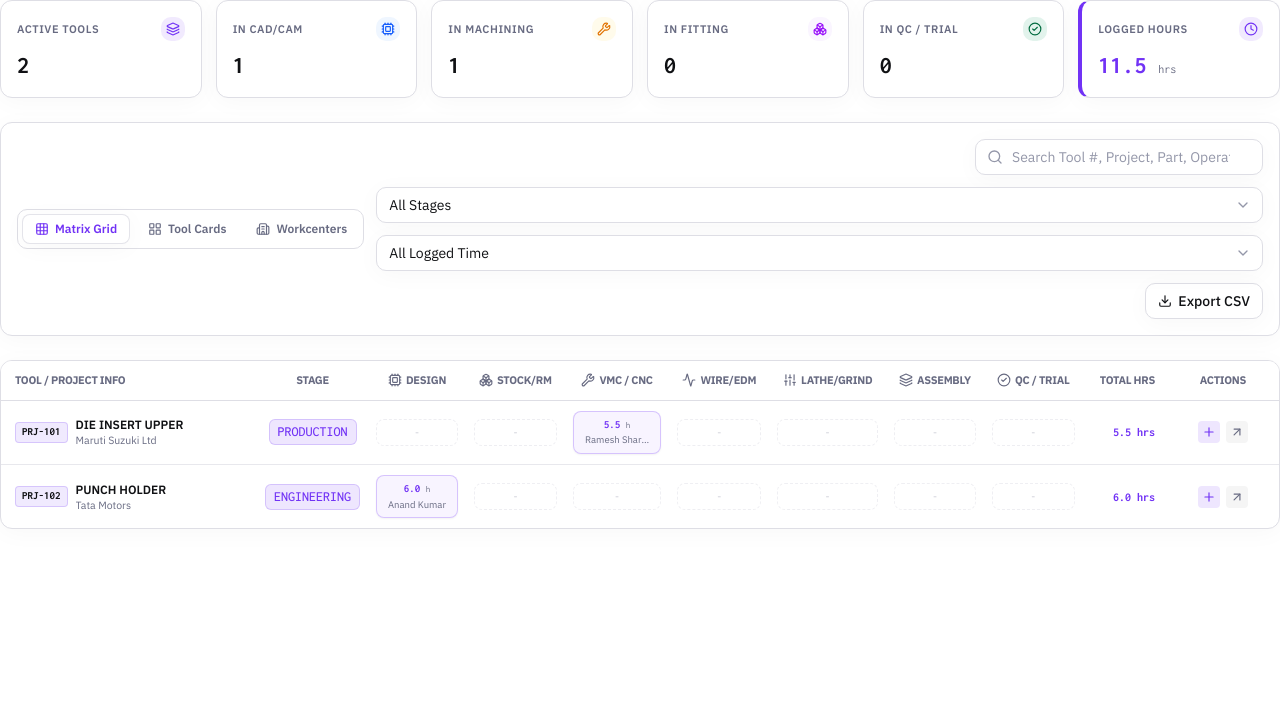
Test: ProjectToolMatrix Component › opens quick log modal and allows logging work
Click quick log button
What coordinates should you click on to do the following:
click the button titled "Quick Log Toolroom Work" in the row of "PRJ-101"
I would click on:
 (1209, 432)
Its box is [1198,421,1220,443].
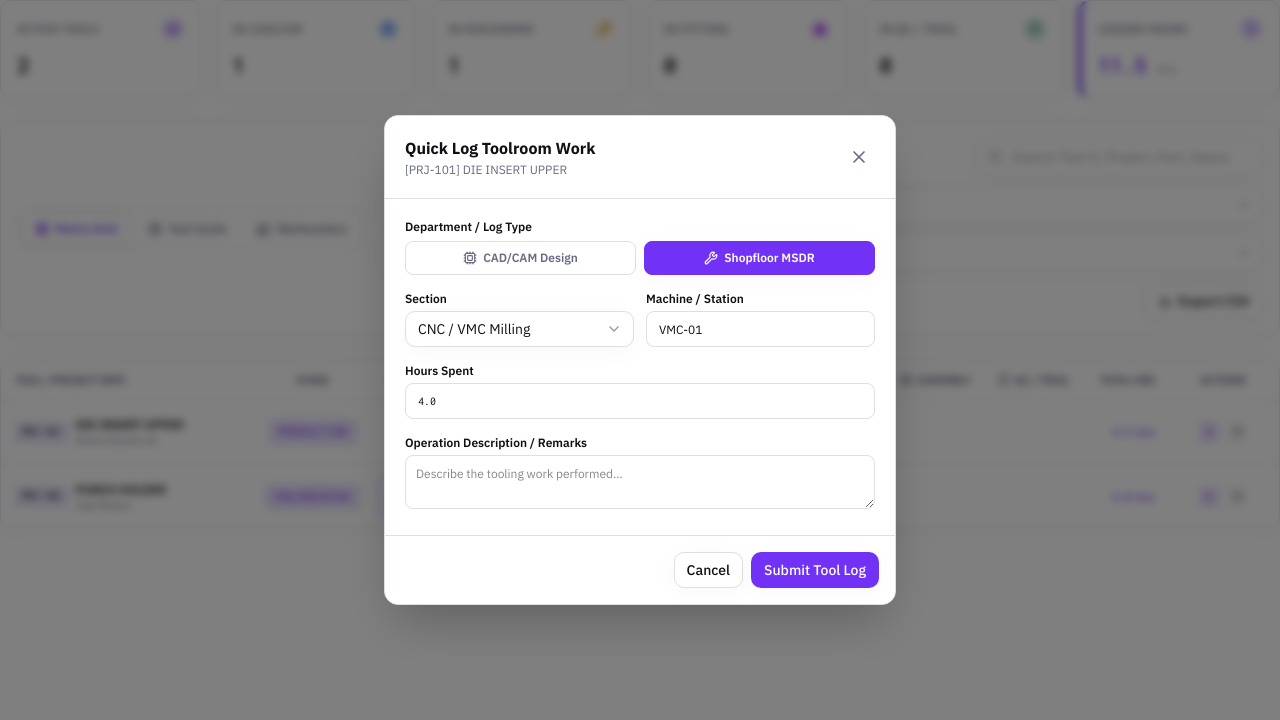
Expected: the heading "Quick Log Toolroom Work" is shown, [405,136,595,160]
Expected: the button "Shopfloor MSDR" is shown, [644,241,875,275]
Close modal
What coordinates should you click on to do the following:
click the button "Cancel"
I would click on:
 (708, 570)
Its box is [674,552,743,588].
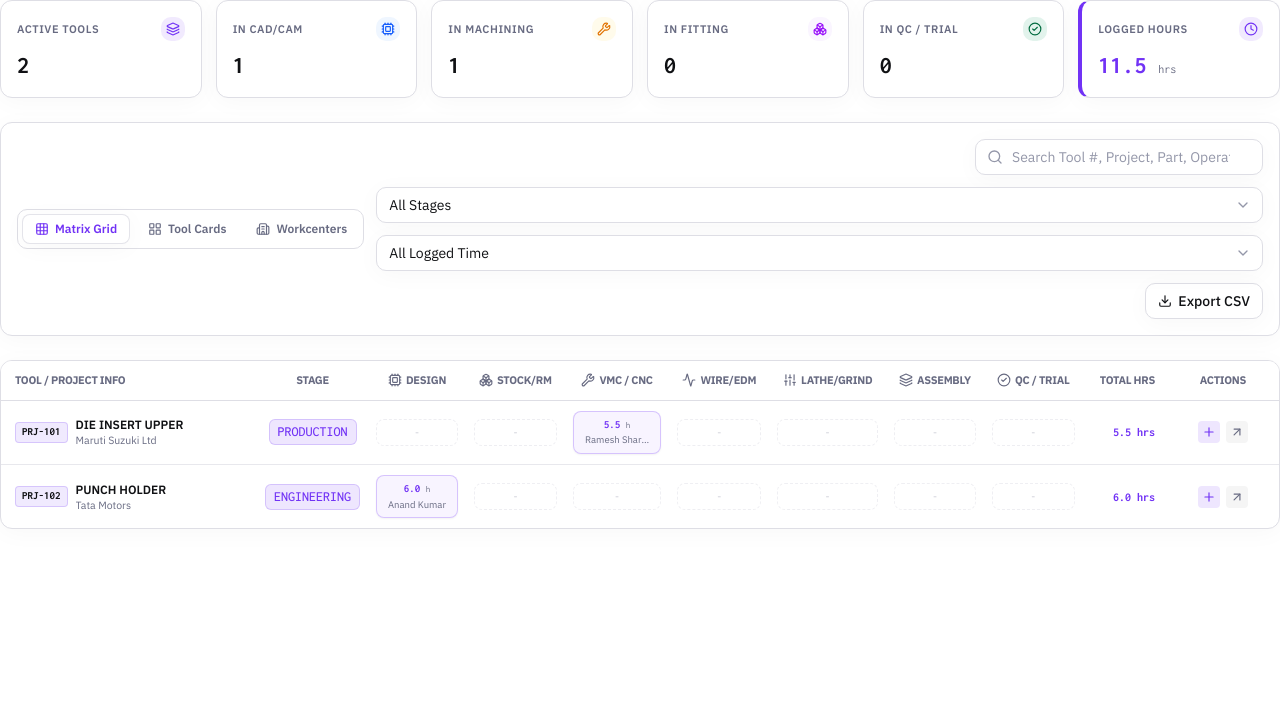
Expected: the heading "Quick Log Toolroom Work" is gone
